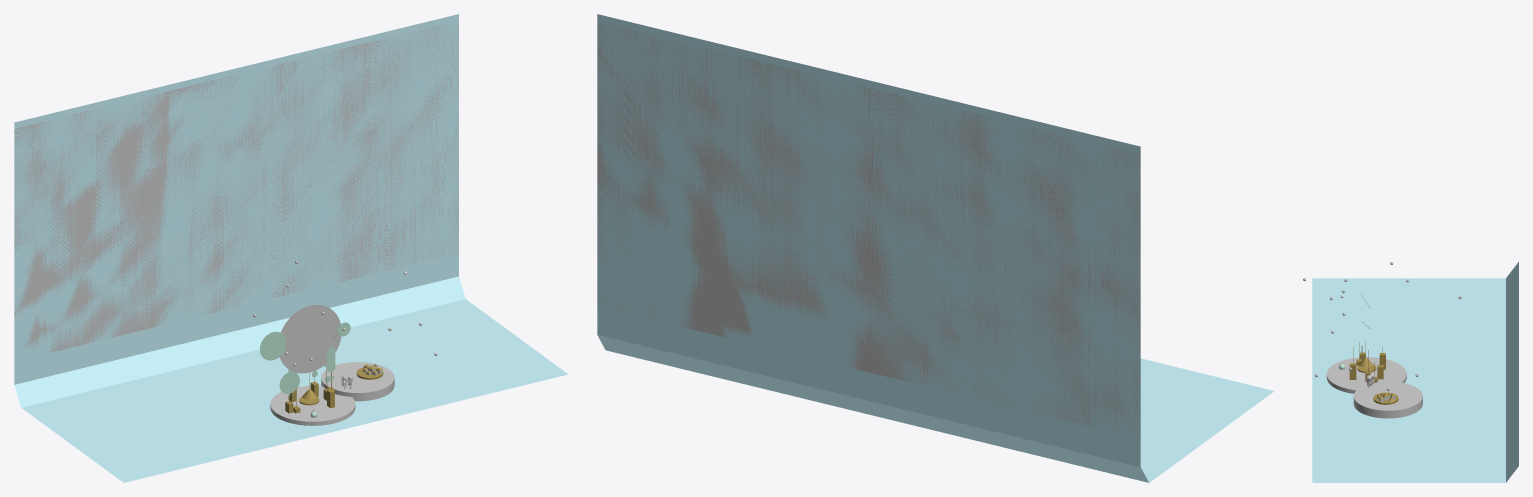
3 renders of one model, left to right at view 1: azimuth 30°, elevation 25°; view 2: azimuth 150°, elevation 25°; view 3: azimuth 270°, elevation 25°, orthographic. The views are drawn at different scales.
Parts seen in each view (by area): view 1: Plan_1, Plan, feuillage, Disque_9, Disque_1_4, Disque_1_2; view 2: Plan_1, Plan; view 3: Plan_1, Disque_1_4, Disque_9.
Boxes of the visible parts, x1,y1,x2,y2 form: Plan_1: (14, 14, 568, 482); Plan: (14, 23, 458, 352); feuillage: (279, 305, 341, 373); Disque_9: (270, 386, 355, 425); Disque_1_4: (321, 362, 394, 401); Disque_1_2: (260, 331, 286, 360); Plan_1: (597, 14, 1274, 482); Plan: (597, 22, 1140, 437); Plan_1: (1312, 262, 1518, 482); Disque_1_4: (1353, 381, 1422, 418); Disque_9: (1326, 357, 1406, 393).
Bounding box in the file's own units: 400 × 241 × 178.
